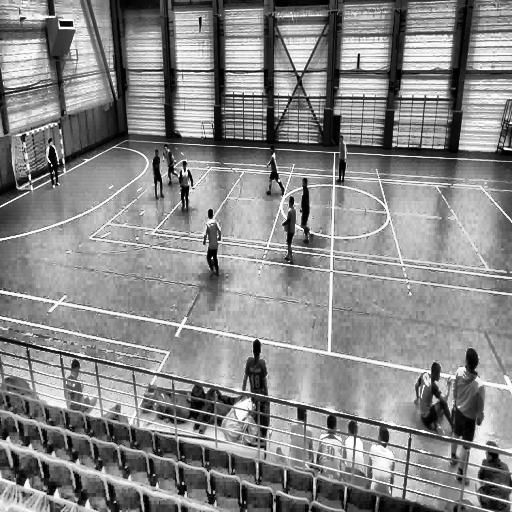player: (446, 346, 484, 484), (243, 338, 269, 421), (202, 207, 221, 281), (264, 145, 286, 199), (282, 194, 297, 264), (178, 159, 194, 215), (300, 176, 312, 248), (162, 142, 180, 188), (334, 132, 347, 186), (46, 137, 60, 187), (152, 150, 165, 201)
